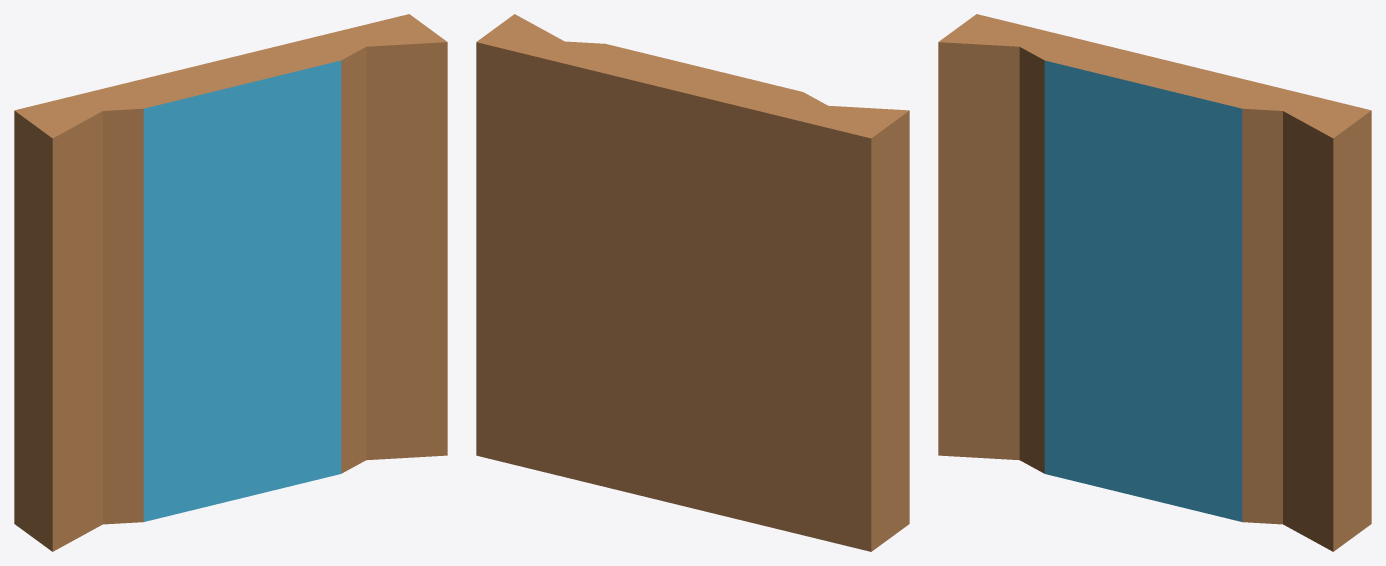
File: cliff-waterfall.glb
The picture shows the model from 3 angles, left to right: view 1: azimuth 30°, elevation 25°; view 2: azimuth 150°, elevation 25°; view 3: azimuth 330°, elevation 25°; orthographic projection.
Parts seen in each view (by area): view 1: cliff_waterfall_rock; view 2: cliff_waterfall_rock; view 3: cliff_waterfall_rock.
Boxes of the visible parts, left/top/right/bottom form: cliff_waterfall_rock: left=14, top=14, right=447, bottom=551; cliff_waterfall_rock: left=476, top=14, right=909, bottom=551; cliff_waterfall_rock: left=938, top=14, right=1371, bottom=551.
Bounding box in the file's own units: 4 × 4 × 0.6738.
